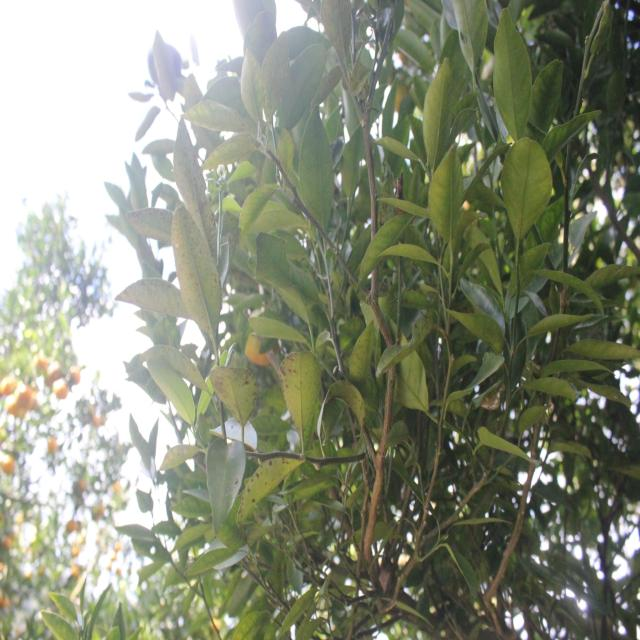melanose: (167, 208, 227, 350), (171, 117, 221, 260), (237, 450, 304, 527), (278, 345, 320, 465), (205, 361, 265, 443), (110, 273, 190, 329), (375, 312, 436, 380), (317, 378, 371, 441), (125, 195, 179, 249), (377, 168, 401, 237)
